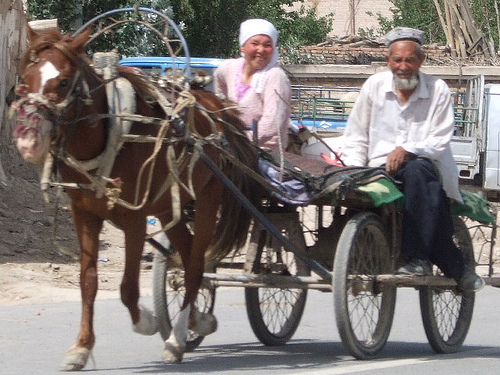horse: (11, 16, 255, 373)
